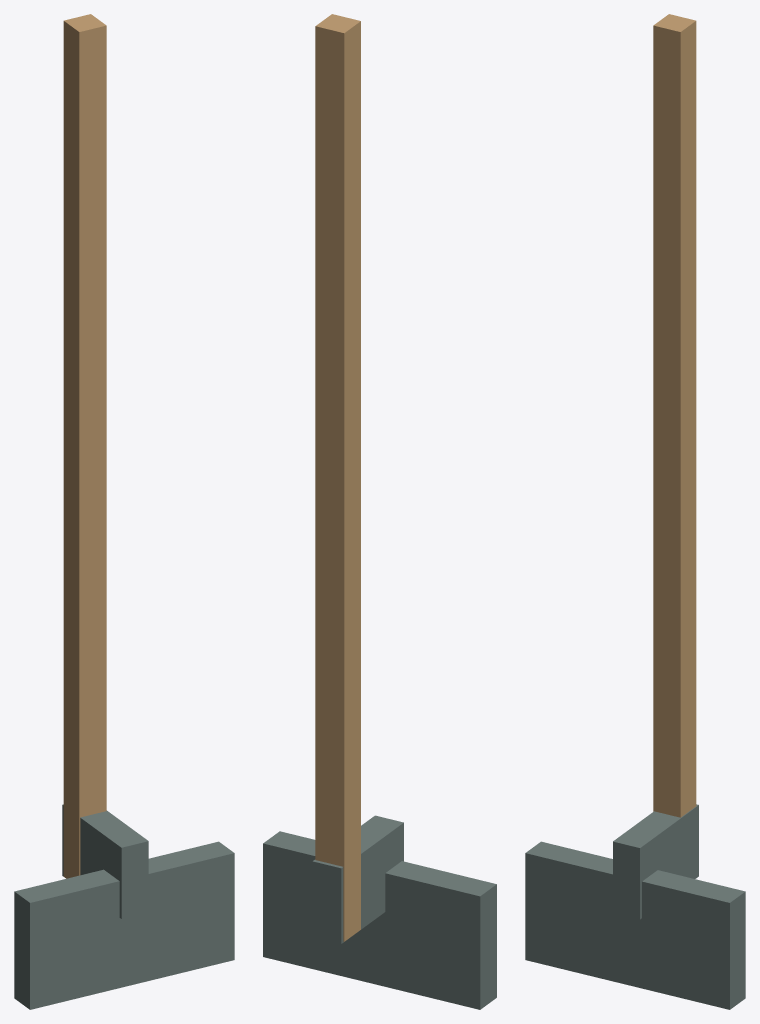
Rendered from cozy-farm-and-homestead-hand-hoe-e4598418__19398.glb.
3 renders of one model, left to right at view 1: azimuth 30°, elevation 25°; view 2: azimuth 150°, elevation 25°; view 3: azimuth 330°, elevation 25°, orthographic. The views are drawn at different scales.
Parts seen in each view (by area): view 1: hand-hoe; view 2: hand-hoe; view 3: hand-hoe.
Part boxes in pixels (box(x1,y1,x2,y2)): hand-hoe: box(14, 14, 234, 1009); hand-hoe: box(263, 14, 496, 1009); hand-hoe: box(525, 14, 745, 1009).
Size of the model in its own units: 0.3 by 1.3 by 0.15.
